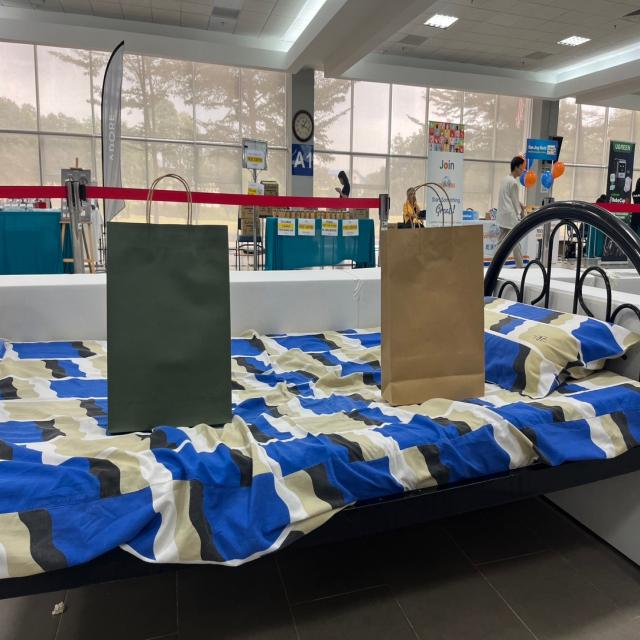bag: (110, 151, 230, 419), (390, 186, 479, 382)
